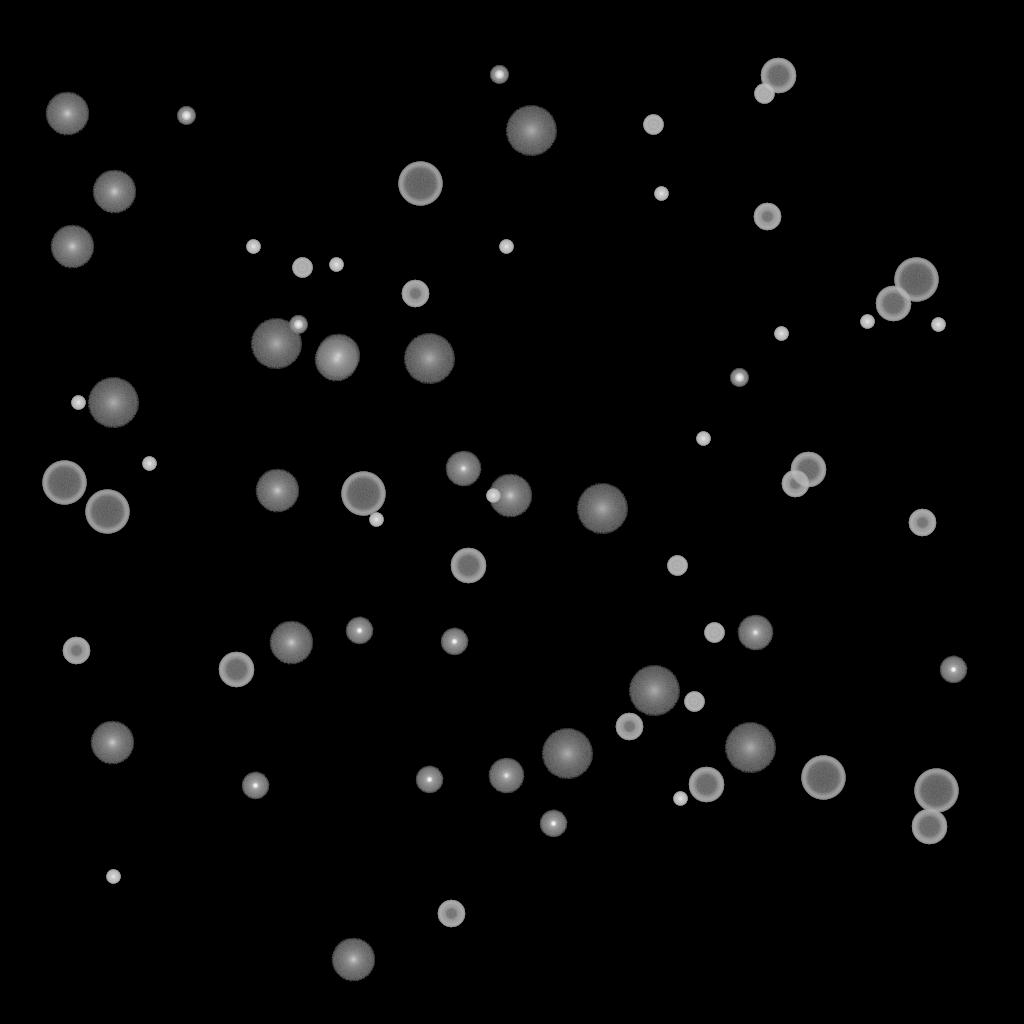depth:-10: (440, 628, 468, 656), (345, 617, 373, 645), (241, 772, 269, 800), (939, 656, 967, 684), (539, 810, 567, 838), (415, 766, 443, 794)
depth:-20: (490, 66, 508, 84), (289, 316, 307, 334), (177, 107, 195, 125), (730, 369, 748, 387)
depth:-30: (486, 489, 500, 503), (499, 240, 513, 254), (696, 432, 710, 446), (673, 792, 687, 806), (860, 315, 874, 329), (931, 318, 945, 332), (369, 513, 383, 527), (71, 396, 85, 410), (654, 187, 668, 201), (142, 457, 156, 471), (329, 258, 343, 272), (246, 240, 260, 254), (774, 327, 788, 341), (106, 870, 120, 884)
depth:-40: (704, 623, 724, 643), (754, 84, 774, 104), (643, 115, 663, 135), (292, 258, 312, 278), (667, 556, 687, 576), (684, 692, 704, 712)
depth:-50: (753, 203, 781, 231), (908, 509, 936, 537), (62, 637, 90, 665), (615, 713, 643, 741), (781, 470, 809, 498), (401, 280, 429, 308), (437, 900, 465, 928)
depth:-60: (911, 809, 947, 845), (760, 58, 796, 94), (688, 767, 724, 803), (450, 548, 486, 584), (218, 652, 254, 688), (790, 452, 826, 488), (875, 286, 911, 322)
depth:-70: (42, 461, 86, 505), (341, 472, 385, 516), (85, 490, 129, 534), (914, 769, 958, 813), (801, 756, 845, 800), (894, 258, 938, 302), (398, 162, 442, 206)
depth:0: (737, 615, 773, 651), (445, 451, 481, 487), (488, 758, 524, 794)
depth:10: (316, 334, 360, 378), (255, 469, 299, 513), (269, 621, 313, 665), (90, 721, 134, 765), (50, 225, 94, 269), (45, 92, 89, 136), (314, 338, 358, 382), (331, 938, 375, 982), (488, 474, 532, 518), (92, 170, 136, 214)
depth:20: (250, 319, 302, 369), (87, 378, 139, 428), (628, 666, 680, 716), (505, 106, 557, 156), (724, 723, 776, 773), (403, 334, 455, 384), (576, 484, 628, 534), (541, 729, 593, 779)
